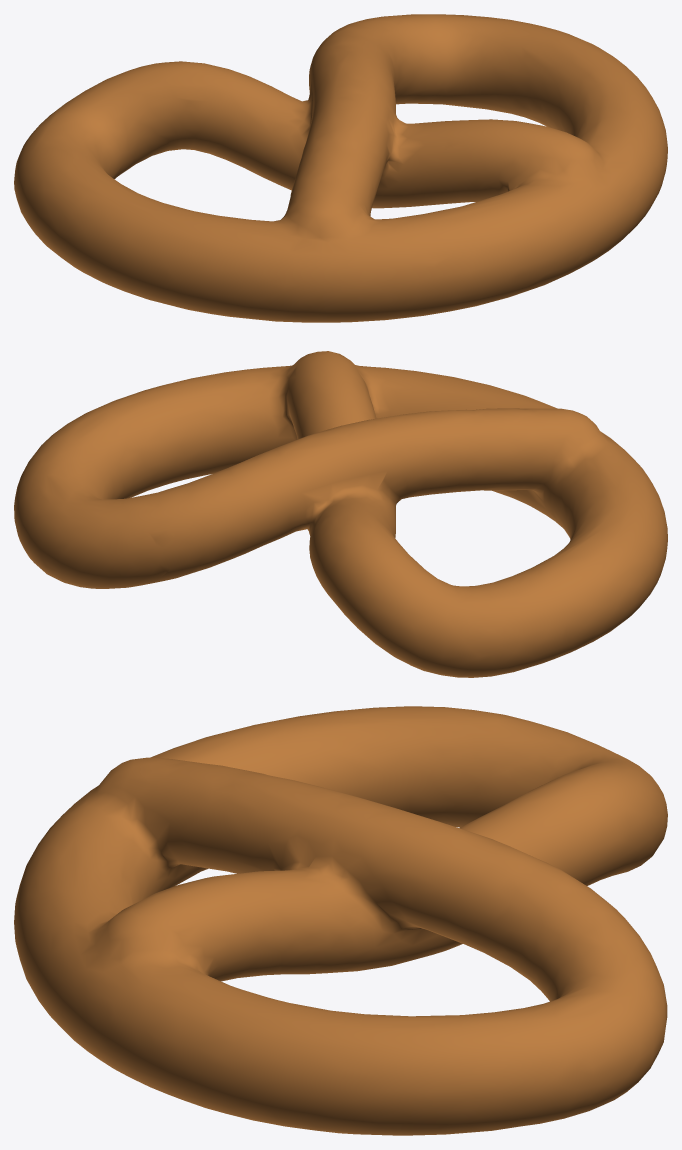
Rendered from NEW_RECOVERY_001_LOD0.fbx.
The picture shows the model from 3 angles, top to bottom: view 1: azimuth 30°, elevation 25°; view 2: azimuth 150°, elevation 25°; view 3: azimuth 270°, elevation 25°; orthographic projection. The views are drawn at different scales.
Parts seen in each view (by area): view 1: NEW_RECOVERY_001_Pretzel_LOD0; view 2: NEW_RECOVERY_001_Pretzel_LOD0; view 3: NEW_RECOVERY_001_Pretzel_LOD0.
Boxes of the visible parts, x1=… form: NEW_RECOVERY_001_Pretzel_LOD0: x1=14, y1=14, x2=667, y2=322; NEW_RECOVERY_001_Pretzel_LOD0: x1=14, y1=351, x2=667, y2=677; NEW_RECOVERY_001_Pretzel_LOD0: x1=14, y1=706, x2=667, y2=1135.
Size of the model in its own units: 25.26 by 19.41 by 5.59.
